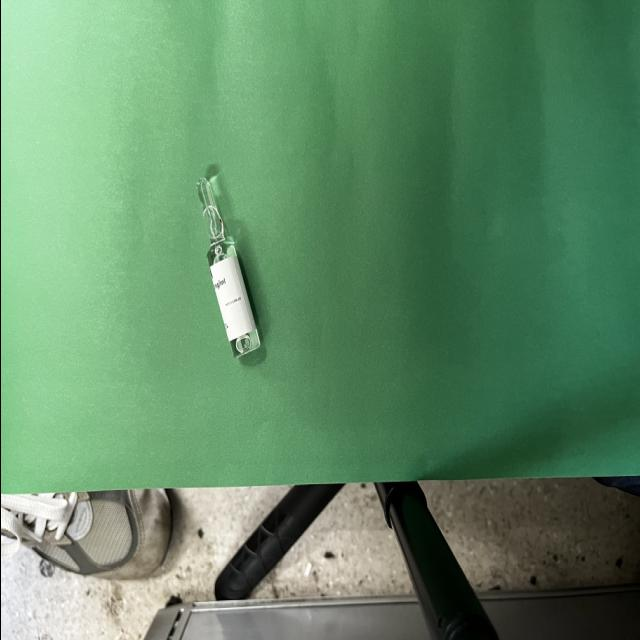Ampoules: (196, 178, 260, 358)
